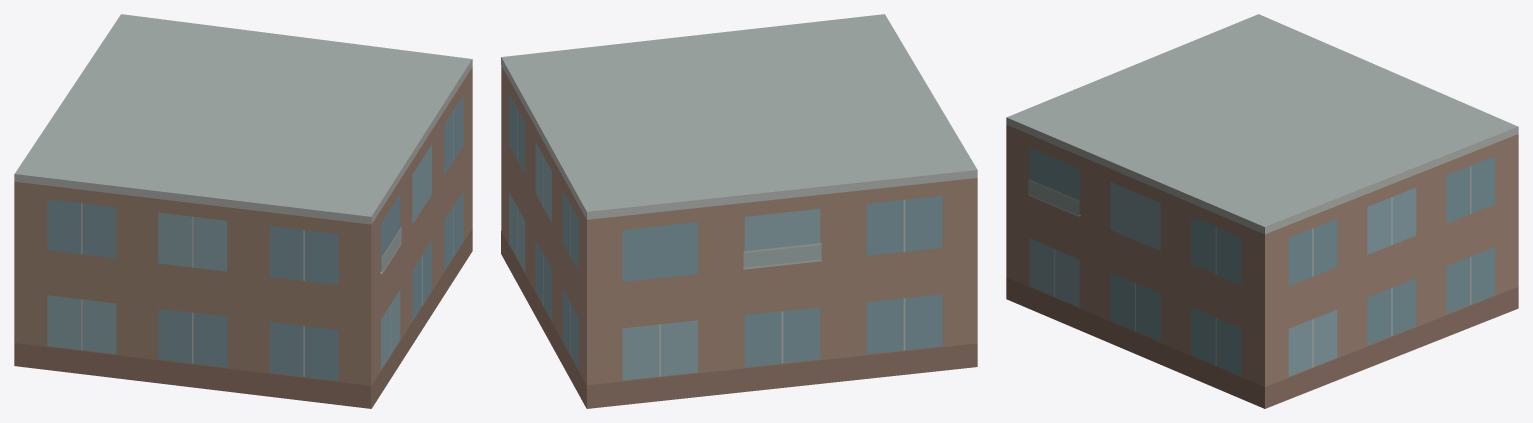
The model's file is survey-upis-32896645.glb.
3 renders of one model, left to right at view 1: azimuth 30°, elevation 25°; view 2: azimuth 150°, elevation 25°; view 3: azimuth 270°, elevation 25°, orthographic. The views are drawn at different scales.
Parts seen in each view (by area): view 1: survey-upis-32896645.tmp; view 2: survey-upis-32896645.tmp; view 3: survey-upis-32896645.tmp.
Boxes of the visible parts, left/top/right/bottom form: survey-upis-32896645.tmp: left=14, top=14, right=472, bottom=408; survey-upis-32896645.tmp: left=501, top=14, right=977, bottom=408; survey-upis-32896645.tmp: left=1006, top=14, right=1518, bottom=408.
Size of the model in its own units: 15.35 by 6.1 by 15.58.
